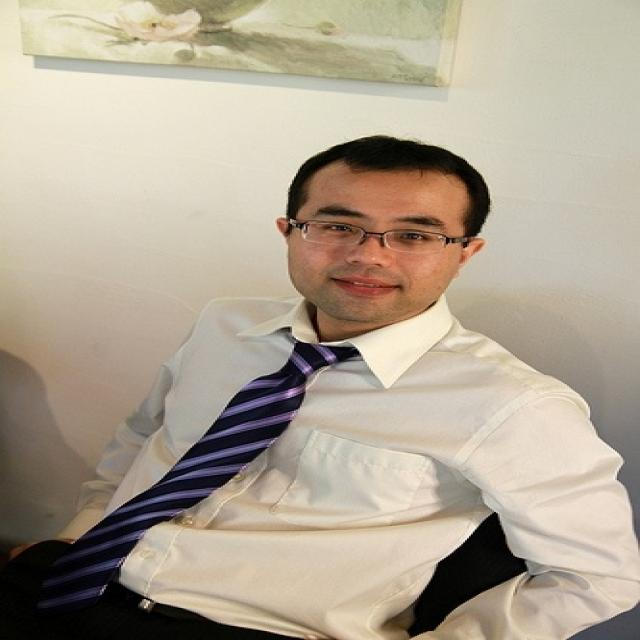piel: (267, 164, 483, 344)
